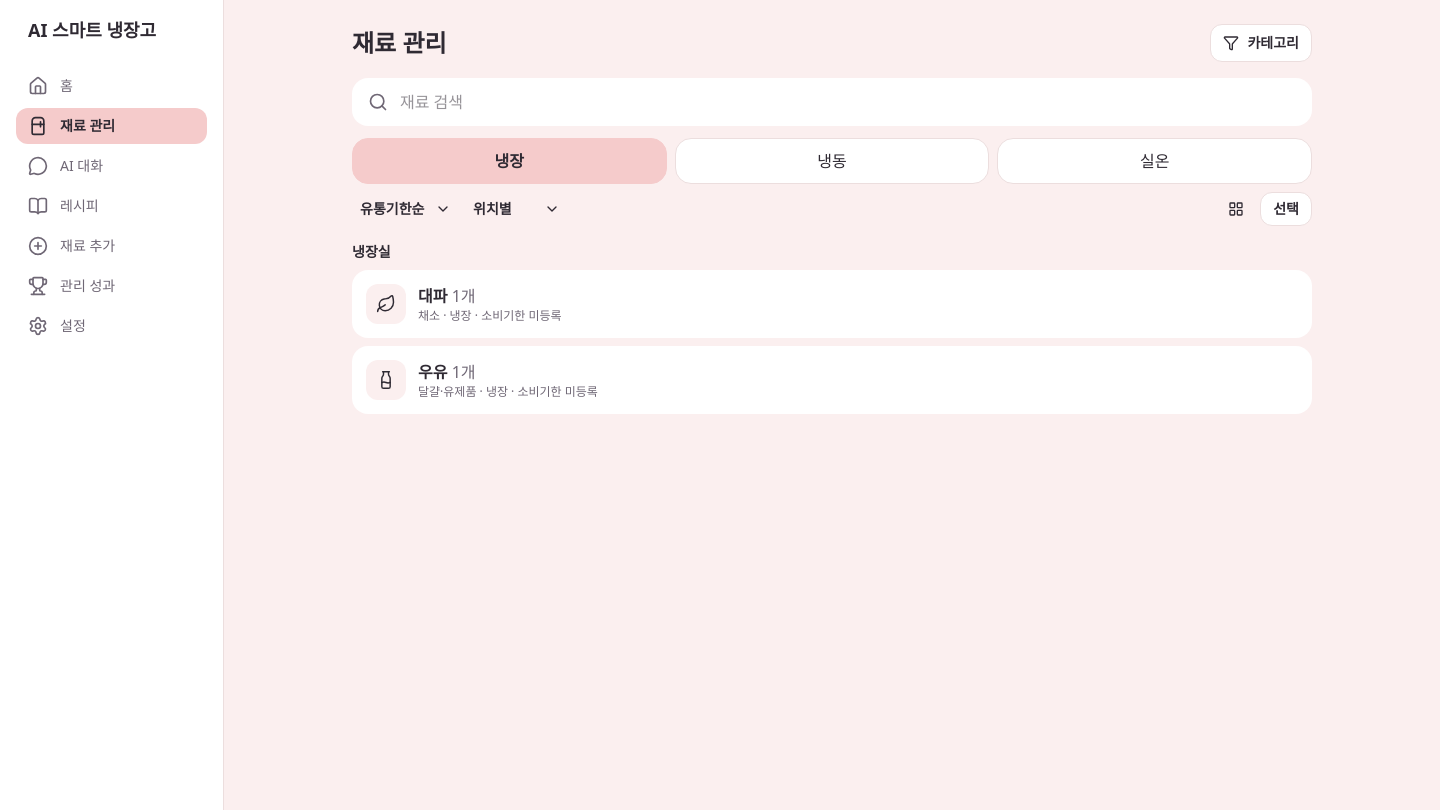
Scenario: 재료 관리 화면의 보기 옵션 › 카테고리별로 묶고 카드 보기로 전환한다
Expected: the link "우유 1개 달걀·유제품 · 냉장 · 소비기한 미등록" is shown, [352,346,1312,414]
Select "카테고리별" in the 2nd dropdown named "묶어보기": (516, 209) [465,193,566,225]
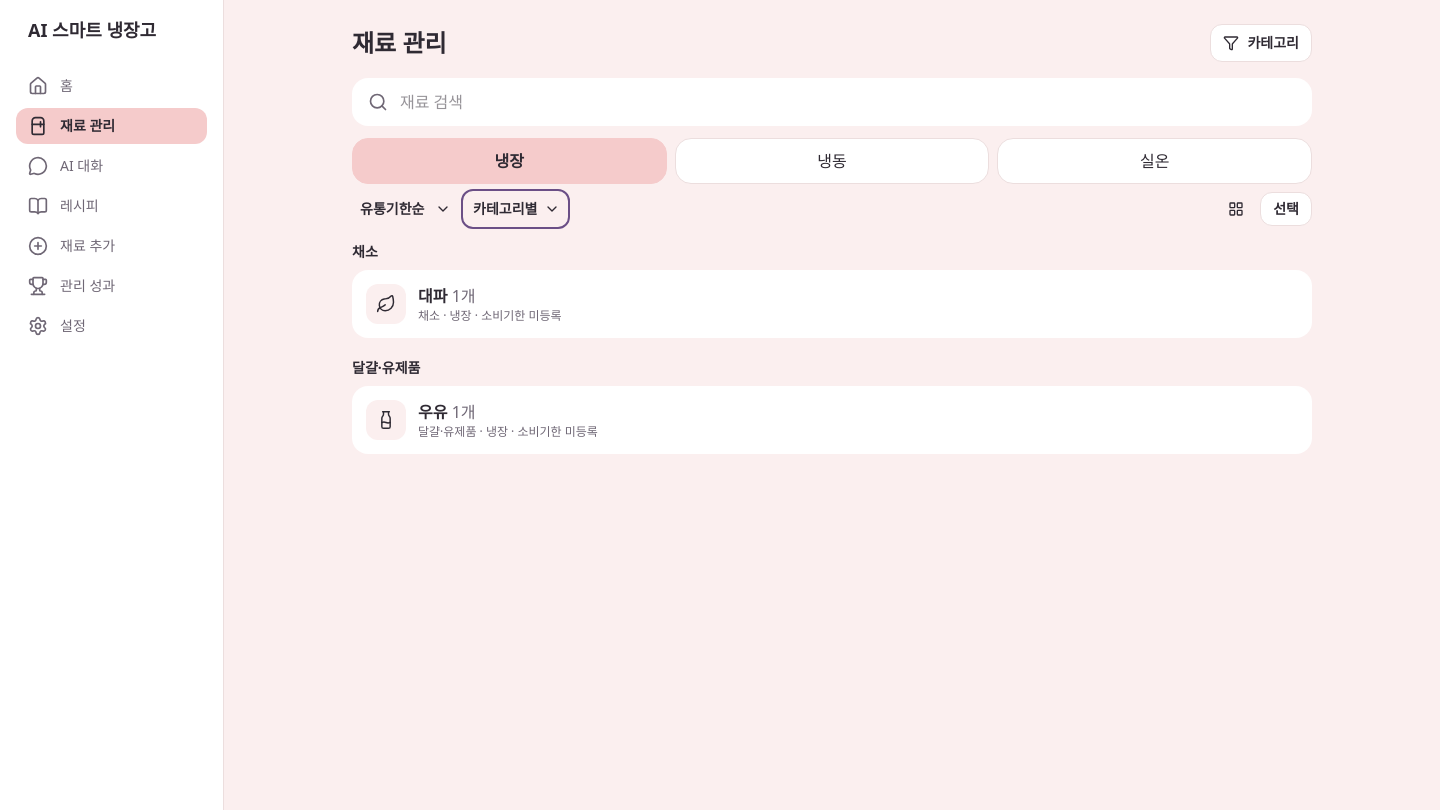
Now the headings read "채소", "달걀·유제품", in this order, box [352,242,378,261]; [352,358,420,377]
Select "묶지 않음" in the 2nd dropdown named "묶어보기": (516, 209) [465,193,566,225]
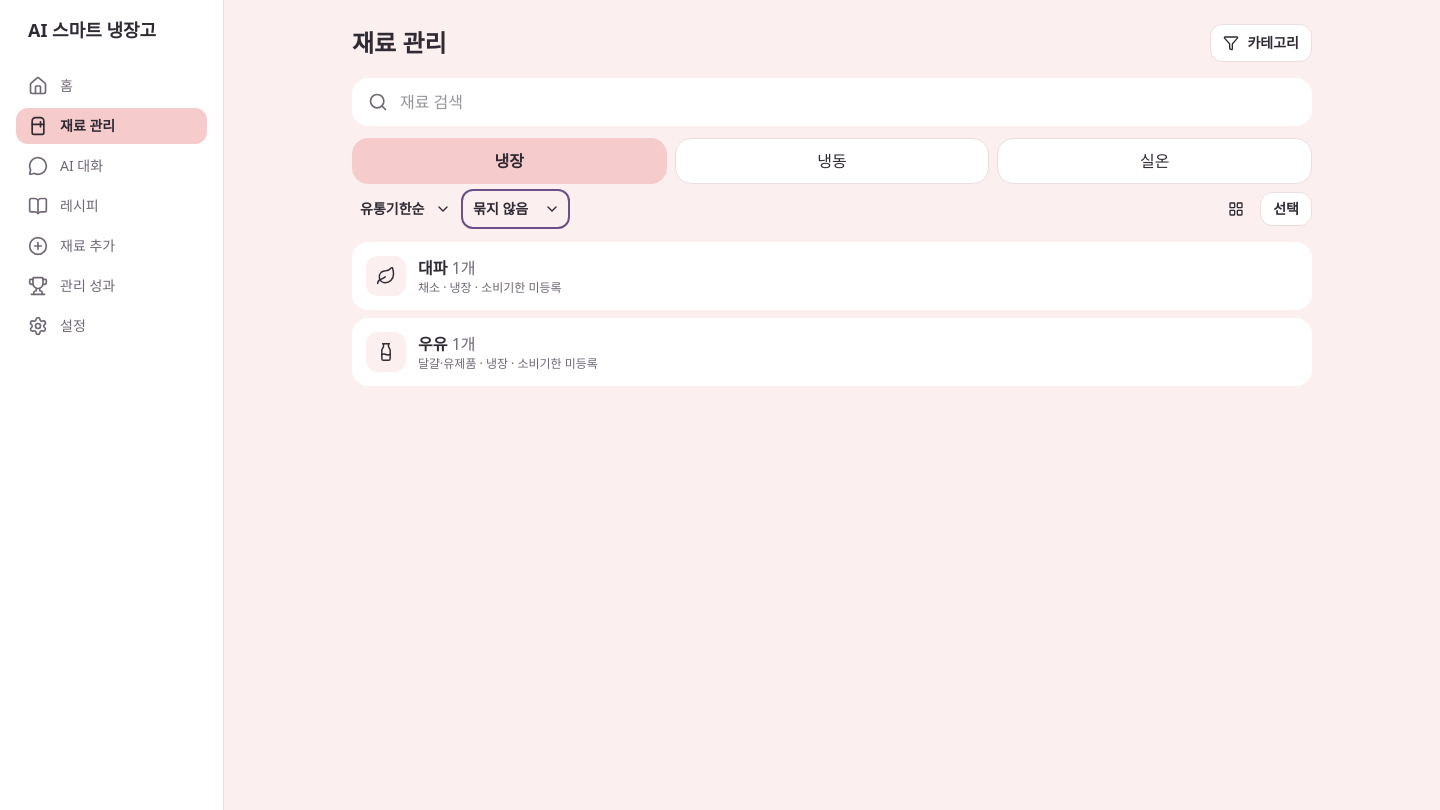
Click the button named "카드 보기로 전환": (1236, 209) [1220,193,1252,225]
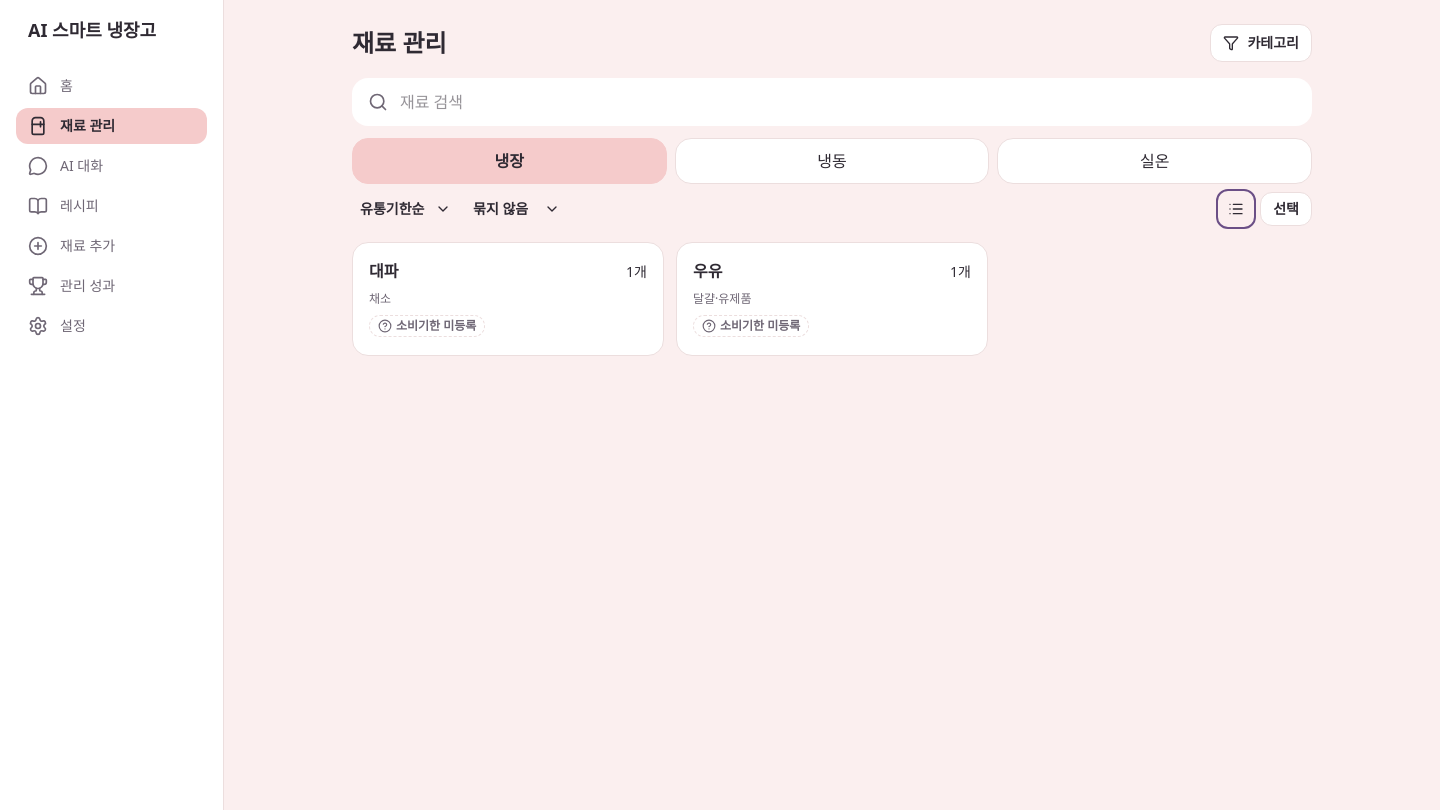
Now the link "우유 1개 달걀·유제품 소비기한 미등록" is shown, box [676,242,988,356]
Now the button named "목록 보기로 전환" is shown, box [1220,193,1252,225]
